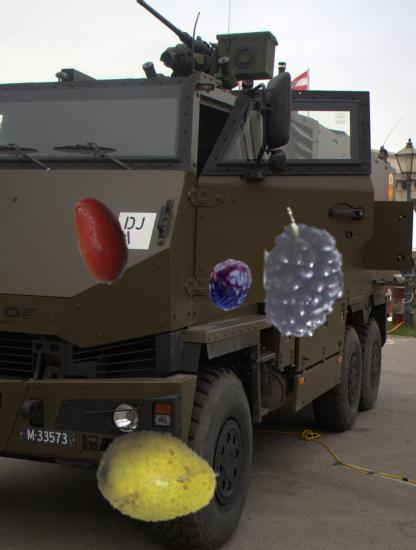Dates: (204, 259, 256, 311)
Mulberry: (242, 206, 376, 340)
Pear: (96, 416, 220, 540)
Potato: (55, 194, 147, 286)
